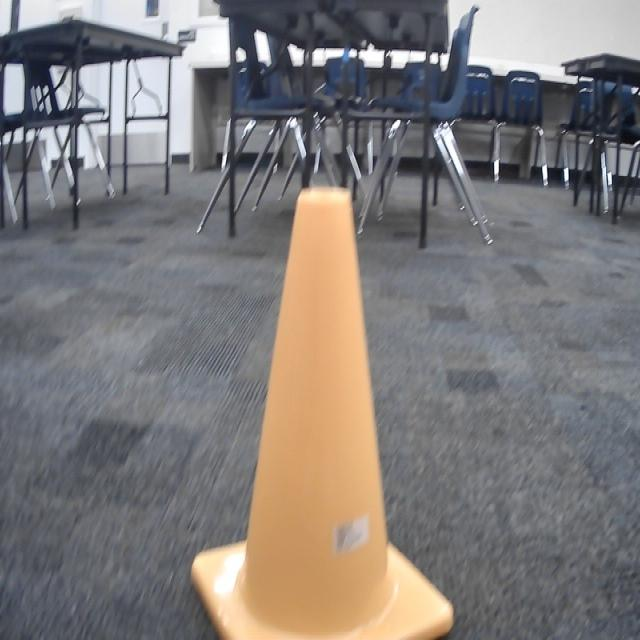cone: (192, 184, 452, 640)
